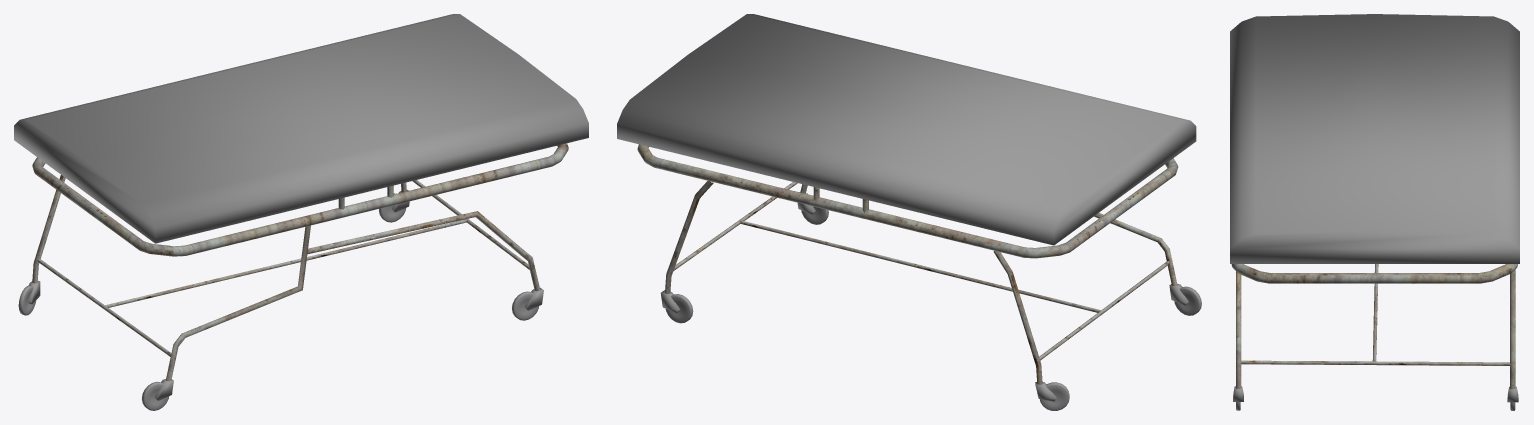
The model's file is hospital gurney.FBX.
3 views of the same model, side by side, from view 1: azimuth 30°, elevation 25°; view 2: azimuth 150°, elevation 25°; view 3: azimuth 270°, elevation 25° (orthographic). The views are drawn at different scales.
Visible parts, largest first — view 1: katka; view 2: katka; view 3: katka.
Part boxes in pixels (x1,y1,x2,y2): katka: (14, 14, 588, 410); katka: (617, 14, 1201, 410); katka: (1230, 14, 1519, 410).
Bounding box in the file's own units: 112 × 48.89 × 61.9.
